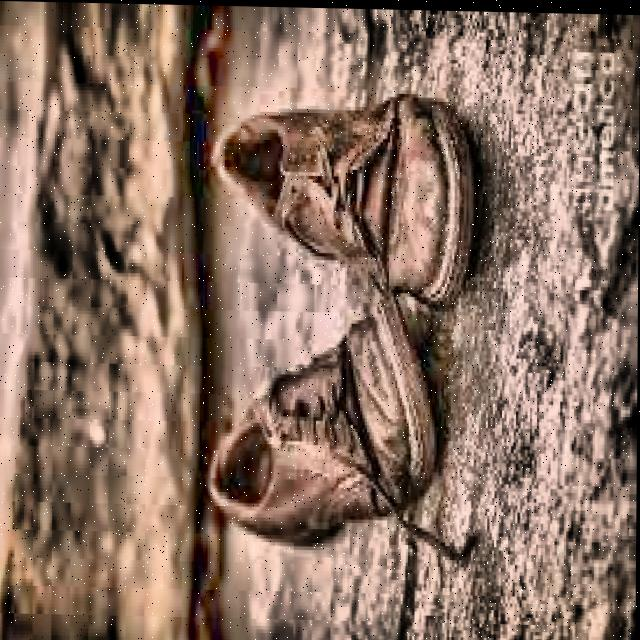shoes: (195, 86, 492, 567)
